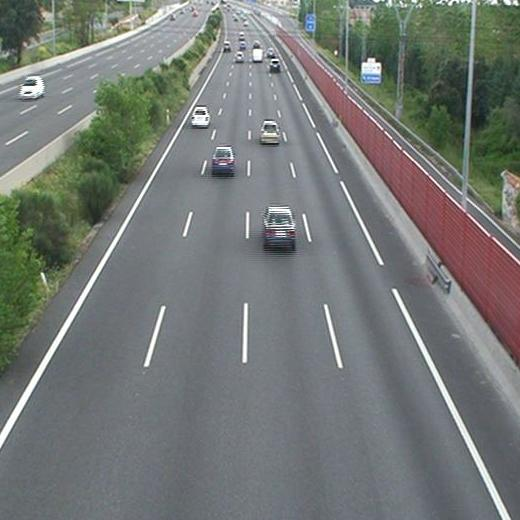car: (263, 206, 295, 245), (212, 146, 234, 171), (260, 121, 280, 142), (191, 108, 210, 126), (270, 58, 280, 69), (235, 52, 245, 62)
van: (252, 48, 263, 62)
